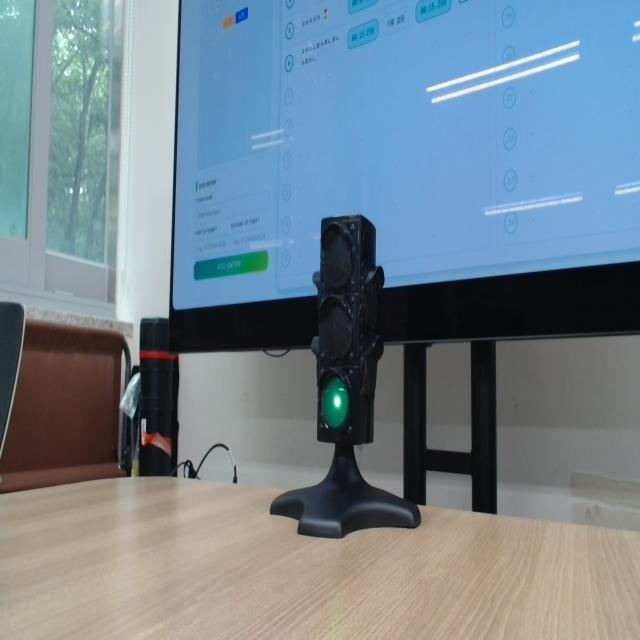green_light: (321, 376, 349, 430)
